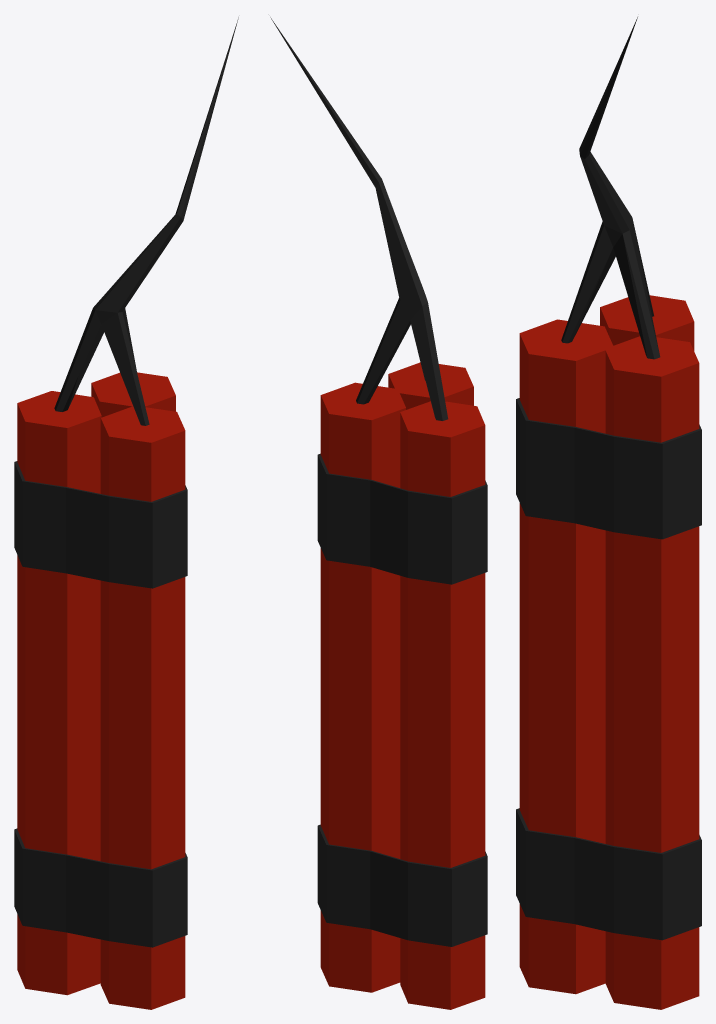
Rendered from Dynamite_Big.fbx.
3 renders of one model, left to right at view 1: azimuth 30°, elevation 25°; view 2: azimuth 150°, elevation 25°; view 3: azimuth 270°, elevation 25°, orthographic. The views are drawn at different scales.
Parts seen in each view (by area): view 1: Dynamite_Big; view 2: Dynamite_Big; view 3: Dynamite_Big.
Part boxes in pixels (left/top/right/bottom): Dynamite_Big: left=14, top=17, right=238, bottom=1009; Dynamite_Big: left=270, top=17, right=487, bottom=1009; Dynamite_Big: left=516, top=17, right=701, bottom=1009.
Bounding box in the file's own units: 8.07 × 32.72 × 5.35.
